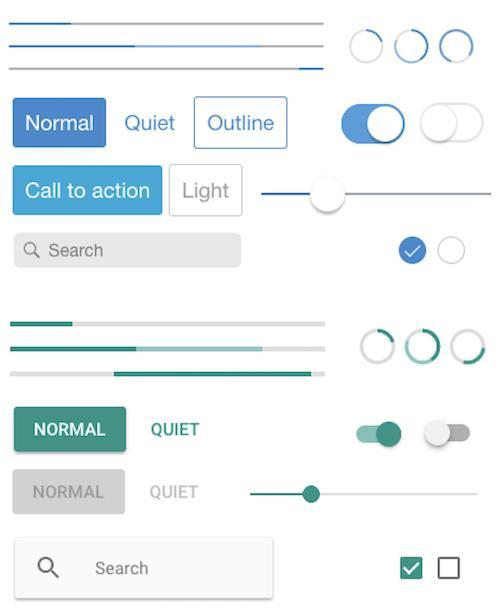button: (12, 166, 161, 215), (15, 405, 128, 453), (14, 469, 127, 515), (196, 98, 288, 150), (13, 98, 108, 148), (171, 164, 243, 216)
checkbox: (395, 235, 433, 266), (400, 556, 425, 582), (439, 557, 462, 580)
input: (15, 543, 272, 601), (19, 236, 235, 264)
label: (144, 415, 203, 444), (123, 111, 182, 137), (147, 481, 202, 504)
radio: (437, 235, 469, 267)
slider: (236, 479, 486, 517), (254, 179, 499, 217)
switch: (422, 99, 488, 149), (340, 103, 405, 146), (354, 417, 409, 456), (421, 417, 476, 454)
